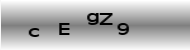9: (116, 23, 130, 35)
E: (57, 21, 72, 37)
Z: (99, 12, 113, 26)
c: (27, 27, 41, 38)
g: (86, 12, 99, 25)
